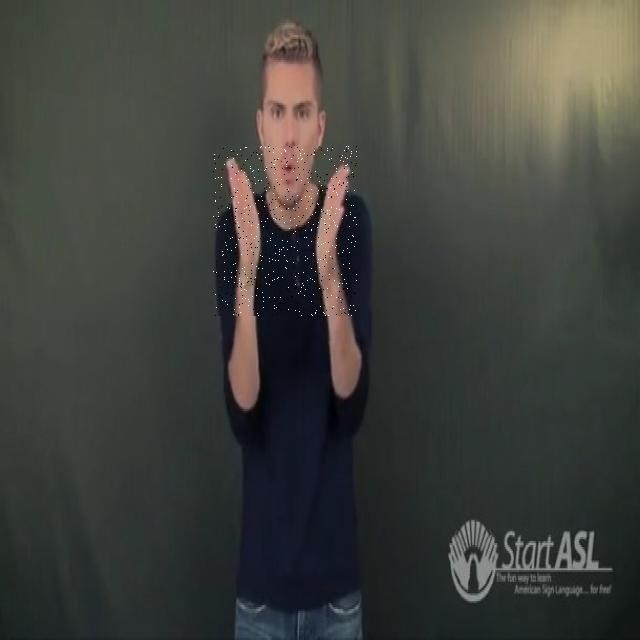small: (214, 146, 358, 316)
